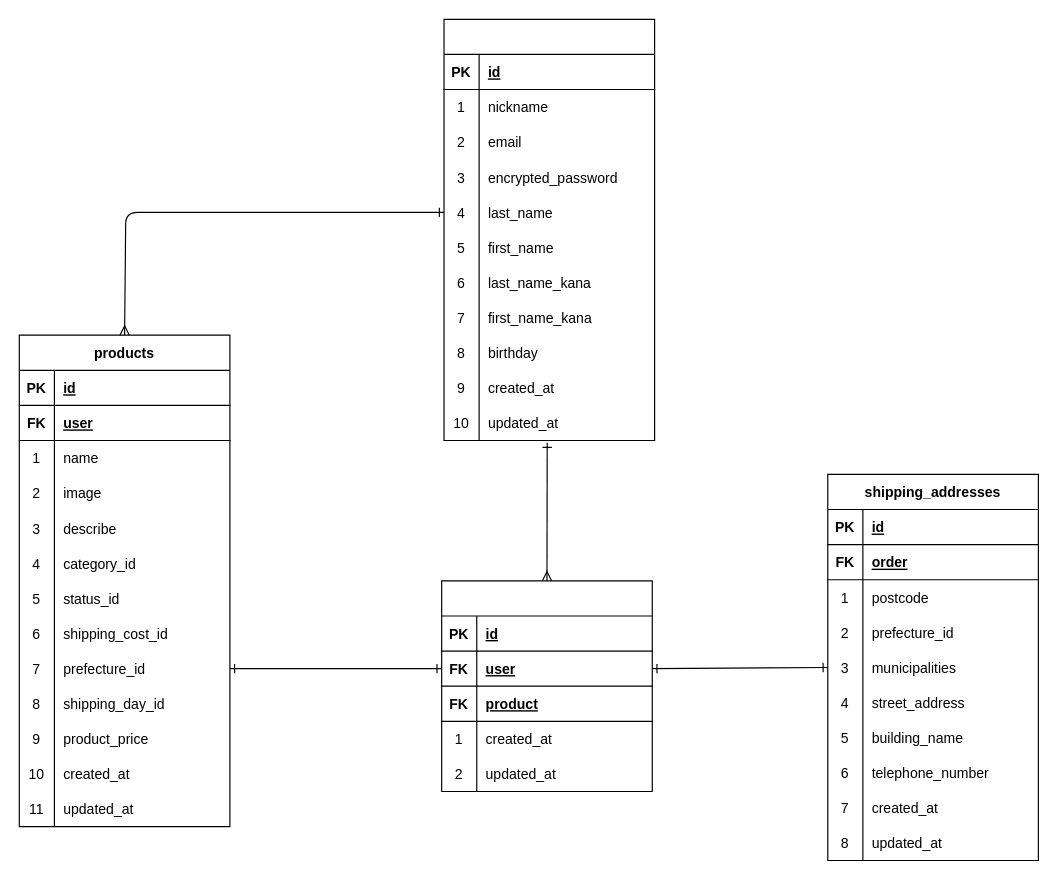
This 1058x880 diagram has some shape labels left out. Each missing label, with the box of its shape:
orders: (441, 580, 652, 792)
users: (443, 18, 655, 441)
